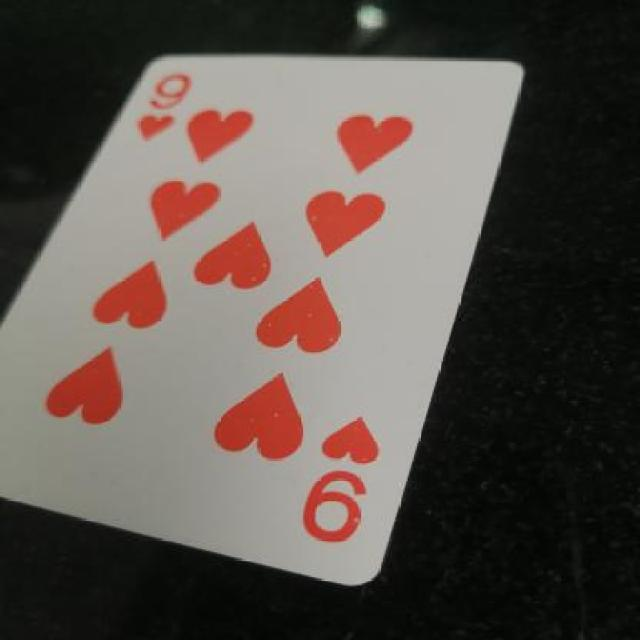9H: (303, 402, 399, 562), (124, 67, 216, 151)
